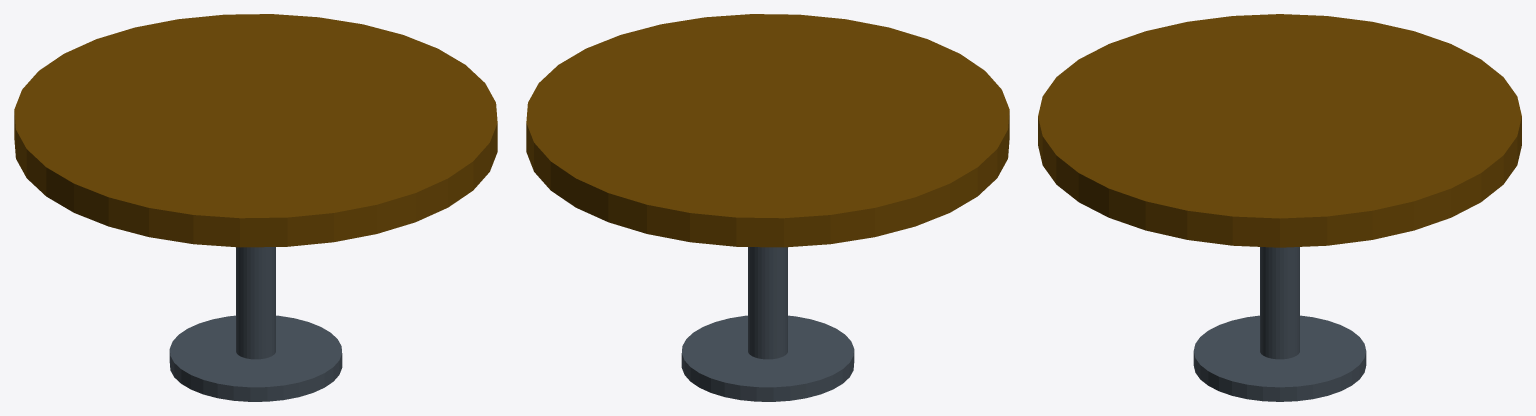
The model's file is circle table.fbx.
3 renders of one model, left to right at view 1: azimuth 30°, elevation 25°; view 2: azimuth 150°, elevation 25°; view 3: azimuth 270°, elevation 25°, orthographic.
Visible parts, largest first — view 1: Cylinder.001; view 2: Cylinder.001; view 3: Cylinder.001.
Part boxes in pixels (x1,y1,x2,y2): Cylinder.001: [14, 14, 497, 401]; Cylinder.001: [526, 14, 1009, 401]; Cylinder.001: [1038, 14, 1521, 401].
Bounding box in the file's own units: 600 × 341 × 600.
